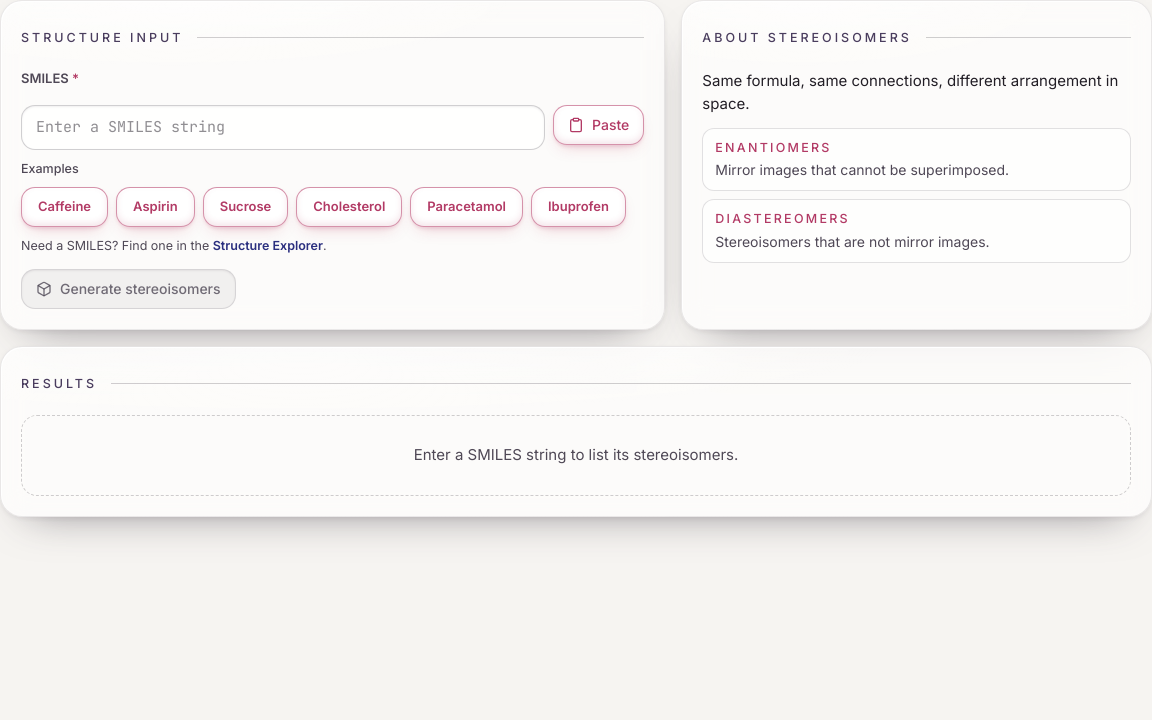
StereoisomersView (bento) › shows each stereoisomer in the results panel
Type "CC(N)O" into the field labelled "SMILES *".
click(283, 127); type("CC(N)O")  # box [21,104,545,150]
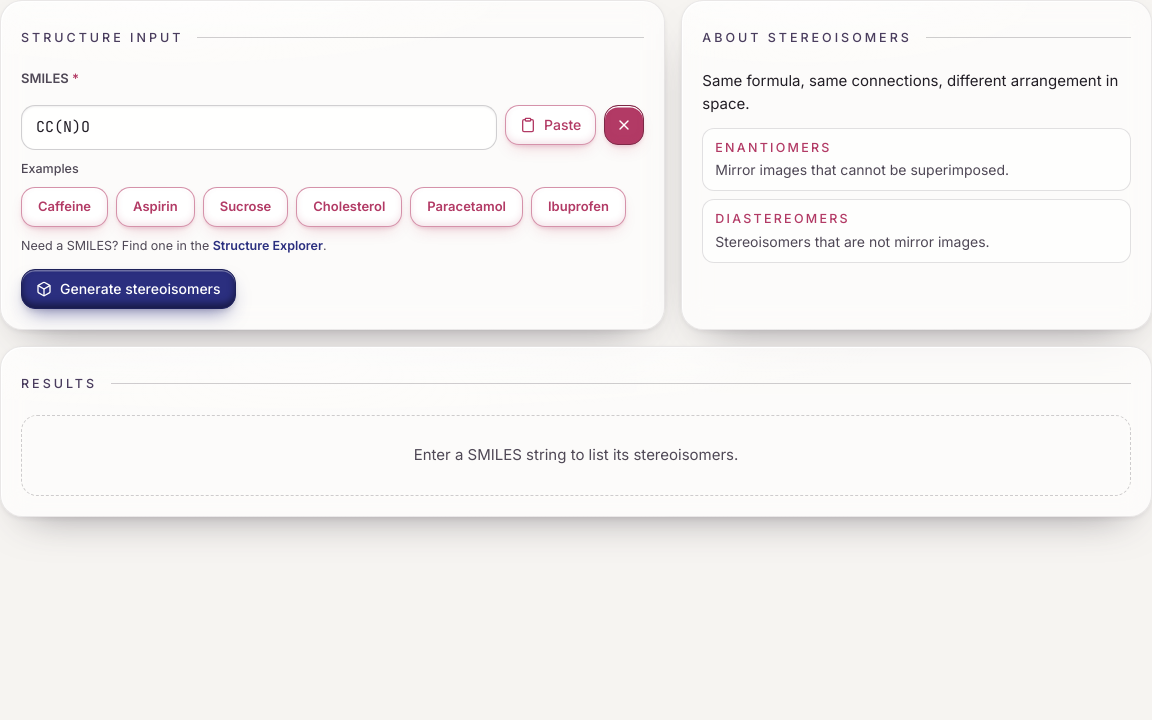
Click the button "Generate stereoisomers".
click(128, 289)  # box [21,269,236,309]
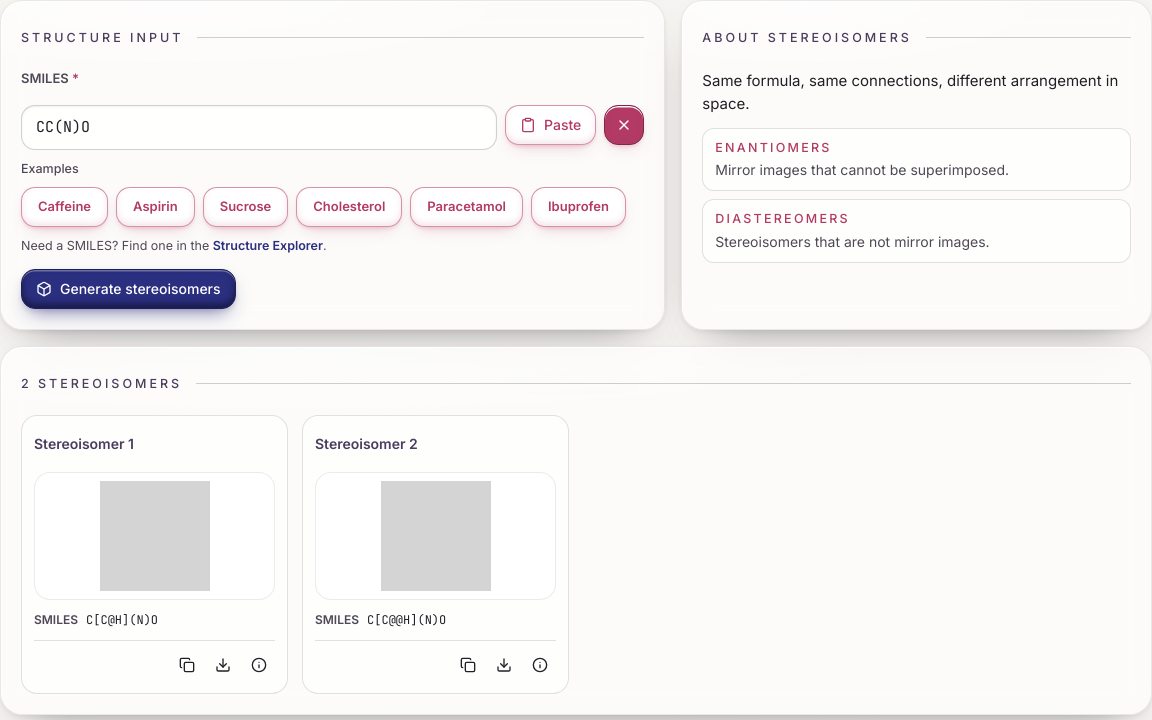
Expected: the heading "Stereoisomer 1" is shown, [34,434,134,454]
Expected: the heading "Stereoisomer 2" is shown, [315,434,418,454]
